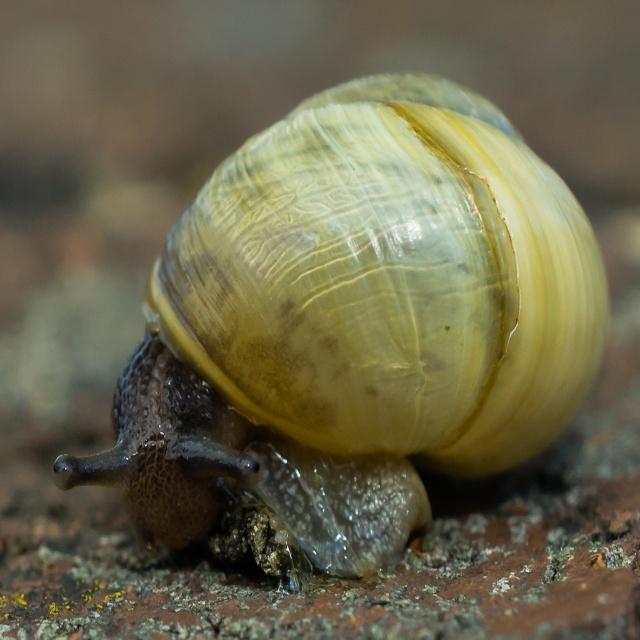Snail: (53, 70, 618, 591)
